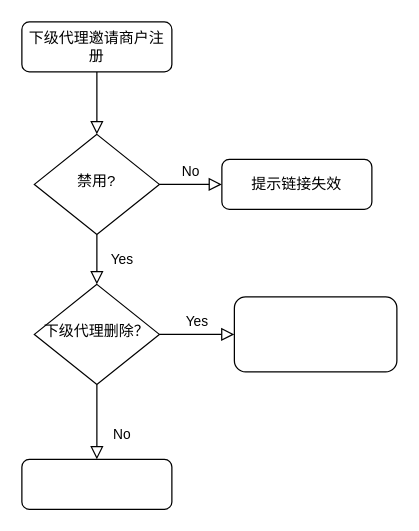
Some shapes in this 419 by 531 pixel diagram are drawn without their labels. Each missing label, with the centre of its shape:
"建立商户和代理商关系，并标识下级代理" belongs at point 96,483.
"直接返回，不落任何商户和代理商、商户和子链接的关系" belongs at point 315,334.
